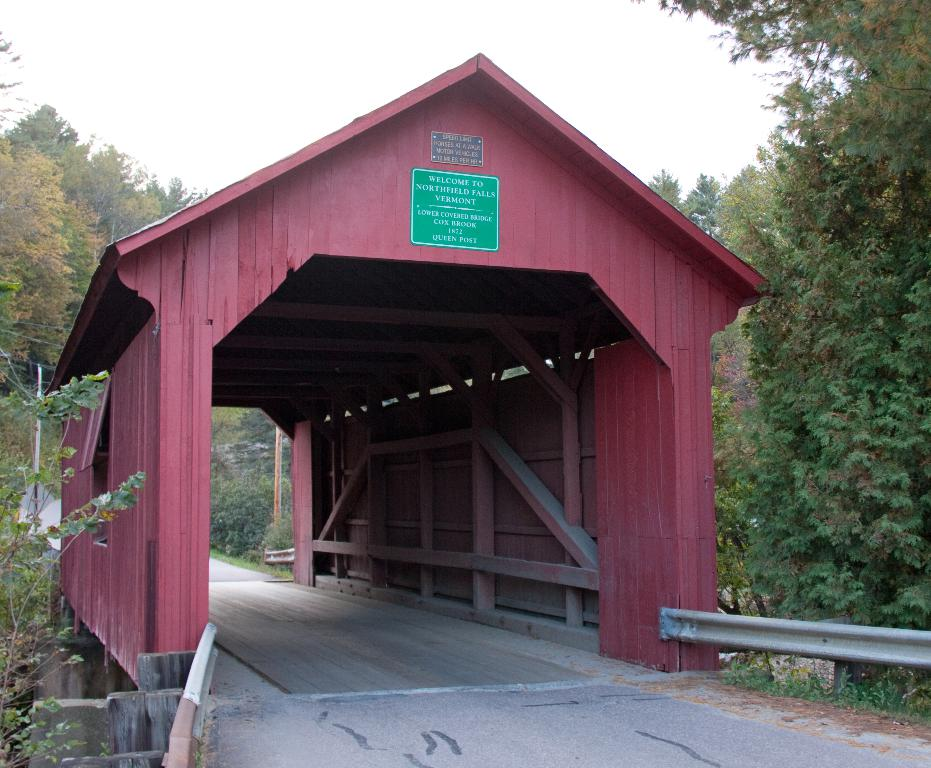Tree: (0, 30, 290, 768), (647, 0, 931, 724)
